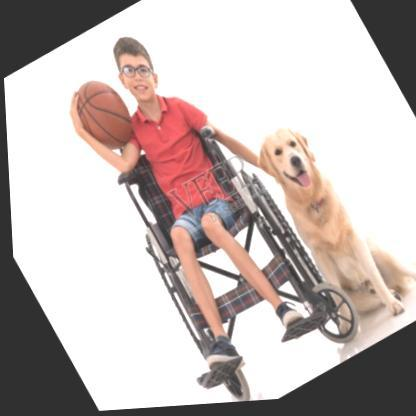basketball: (66, 69, 141, 160)
